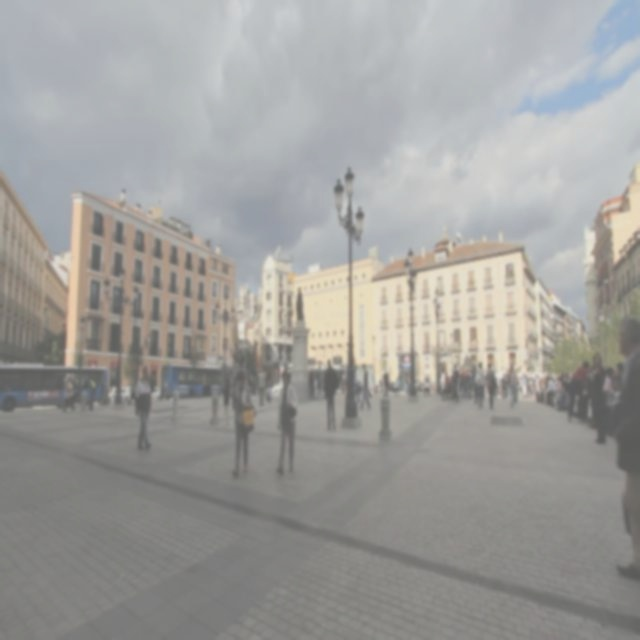pessoa: (610, 313, 640, 584), (229, 366, 257, 478), (274, 368, 298, 476), (588, 348, 610, 447), (516, 372, 572, 410), (132, 362, 154, 452), (602, 356, 626, 434), (566, 358, 590, 424), (322, 356, 339, 432), (581, 352, 596, 419), (340, 361, 362, 404), (58, 372, 78, 417), (358, 361, 372, 412), (221, 368, 233, 427), (484, 360, 498, 410), (473, 360, 486, 410), (455, 368, 474, 400), (506, 362, 518, 409), (542, 374, 557, 406), (128, 361, 138, 407), (438, 374, 454, 402), (87, 368, 97, 412), (256, 364, 266, 408), (99, 372, 111, 405), (530, 373, 543, 403), (112, 382, 128, 406), (244, 370, 256, 400), (472, 362, 480, 406), (490, 364, 498, 402), (315, 364, 323, 400), (386, 376, 399, 398), (452, 362, 459, 402), (307, 367, 315, 400), (500, 372, 508, 402), (382, 368, 389, 399), (265, 377, 273, 404), (443, 370, 450, 400), (403, 372, 412, 395), (373, 374, 383, 394), (422, 378, 430, 401), (157, 381, 165, 403), (504, 369, 509, 399), (413, 378, 422, 394), (312, 377, 318, 400), (366, 386, 372, 398), (288, 372, 292, 385)
